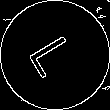L_NE: (25, 29, 85, 81)
